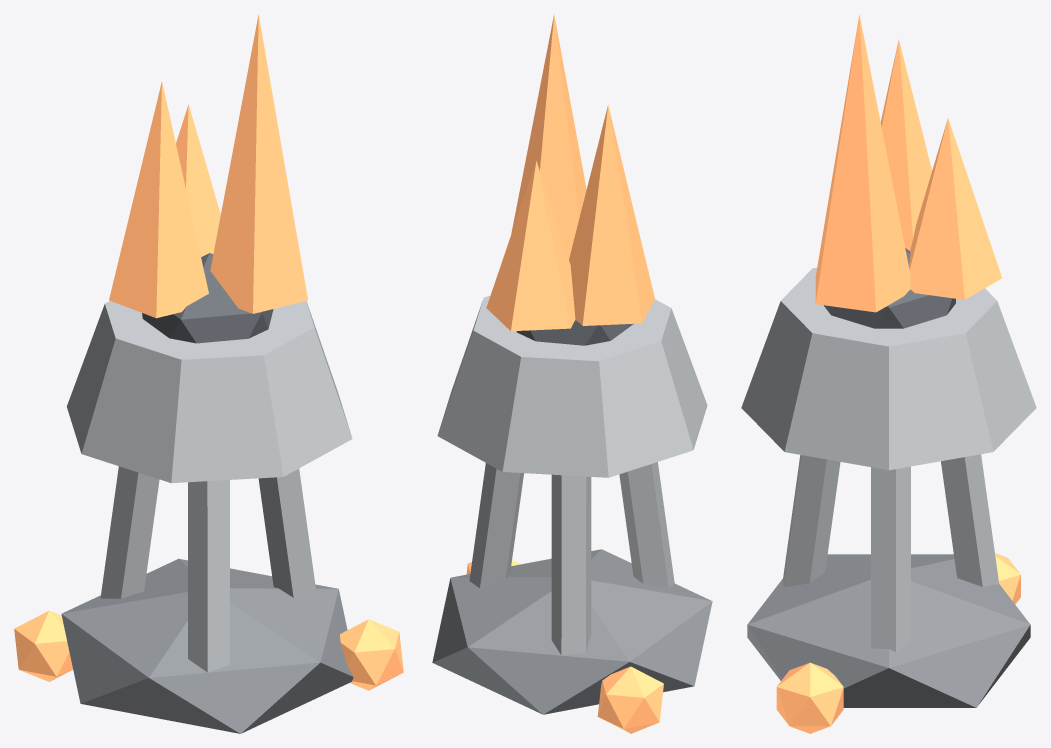
File: crypt_brazier.glb
The picture shows the model from 3 angles, left to right: view 1: azimuth 30°, elevation 25°; view 2: azimuth 150°, elevation 25°; view 3: azimuth 270°, elevation 25°; orthographic projection. The views are drawn at different scales.
Parts seen in each view (by area): view 1: bowl.001, base.001, flame_1.002, flame_0.002, leg_2, leg_1.003, leg_0.003, coal, ember_1.002, flame_2.001, ember_0.002; view 2: bowl.001, base.001, flame_0.002, flame_2.001, flame_1.002, leg_1.003, leg_2, leg_0.003, ember_0.002, coal; view 3: bowl.001, base.001, flame_1.002, flame_2.001, leg_0.003, flame_0.002, leg_1.003, leg_2, ember_1.002, coal, ember_0.002.
Boxes of the visible parts, x1=… form: bowl.001: x1=66, y1=301, x2=352, y2=483; base.001: x1=61, y1=558, x2=353, y2=733; flame_1.002: x1=210, y1=15, x2=307, y2=313; flame_0.002: x1=109, y1=82, x2=208, y2=318; leg_2: x1=188, y1=480, x2=229, y2=672; leg_1.003: x1=100, y1=466, x2=159, y2=598; leg_0.003: x1=258, y1=468, x2=317, y2=597; coal: x1=142, y1=253, x2=273, y2=343; ember_1.002: x1=340, y1=619, x2=403, y2=690; flame_2.001: x1=176, y1=104, x2=220, y2=256; ember_0.002: x1=14, y1=610, x2=72, y2=681; bowl.001: x1=437, y1=296, x2=707, y2=477; base.001: x1=432, y1=549, x2=712, y2=714; flame_0.002: x1=569, y1=105, x2=654, y2=325; flame_2.001: x1=486, y1=161, x2=575, y2=331; flame_1.002: x1=511, y1=14, x2=586, y2=258; leg_1.003: x1=551, y1=474, x2=591, y2=655; leg_2: x1=619, y1=462, x2=674, y2=588; leg_0.003: x1=469, y1=463, x2=523, y2=588; ember_0.002: x1=597, y1=666, x2=663, y2=733; coal: x1=516, y1=319, x2=633, y2=345; bowl.001: x1=741, y1=267, x2=1036, y2=470; base.001: x1=747, y1=554, x2=1030, y2=707; flame_1.002: x1=815, y1=14, x2=910, y2=312; flame_2.001: x1=909, y1=118, x2=1001, y2=299; leg_0.003: x1=871, y1=466, x2=910, y2=651; flame_0.002: x1=880, y1=39, x2=931, y2=250; leg_1.003: x1=941, y1=454, x2=999, y2=586; leg_2: x1=783, y1=455, x2=840, y2=586; ember_1.002: x1=776, y1=662, x2=843, y2=733; coal: x1=824, y1=248, x2=955, y2=328; ember_0.002: x1=995, y1=553, x2=1020, y2=604.
Size of the model in its own units: 0.6831 by 1.55 by 0.6.
